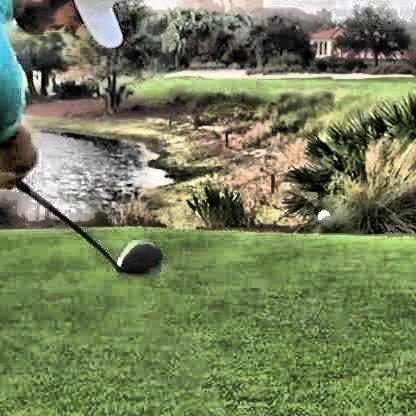golfball: (314, 207, 328, 223)
